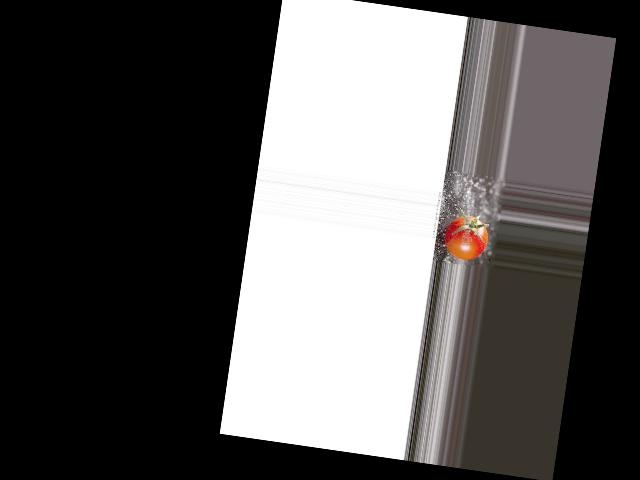tomato: (442, 212, 490, 262)
